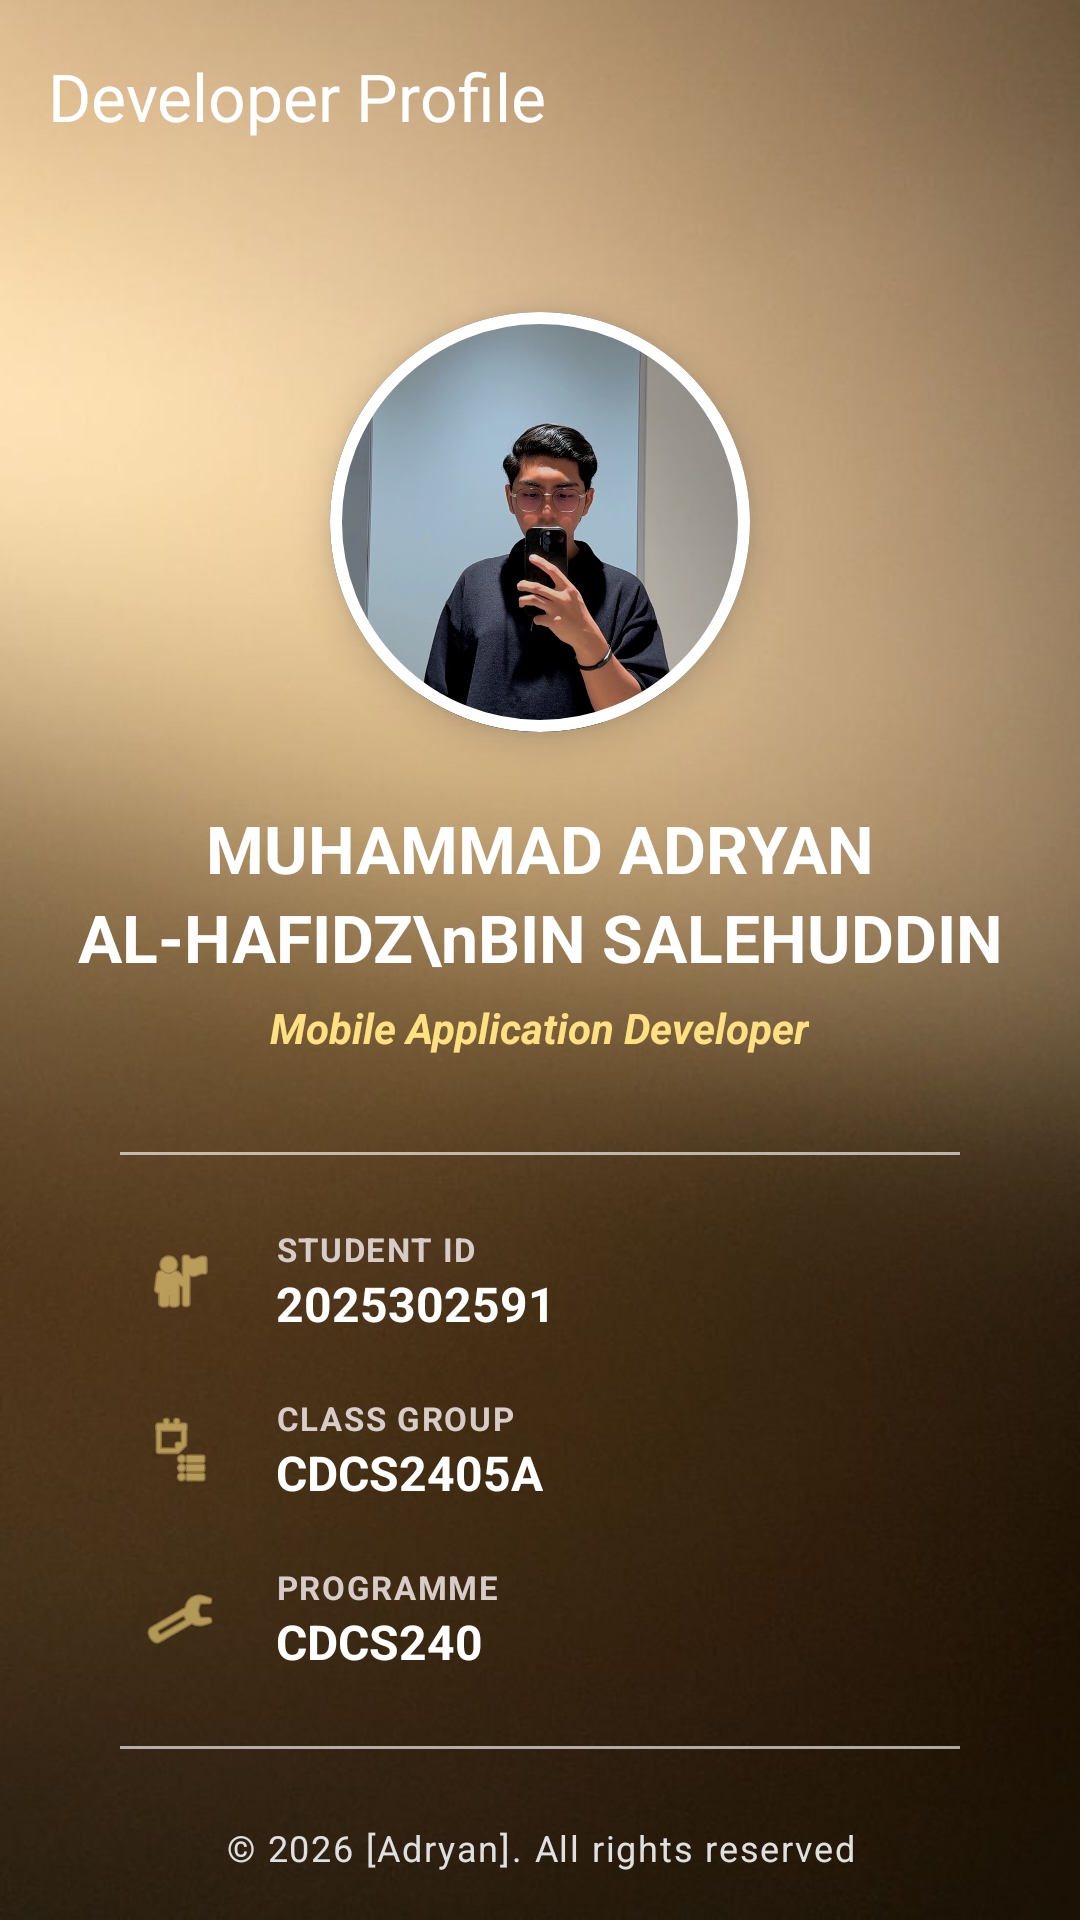

Where to tap for icons on this 1080x1920 app screen, as point (x, y):
agenda: point (180, 1450)
manage: point (180, 1619)
myplaces: point (181, 1281)
